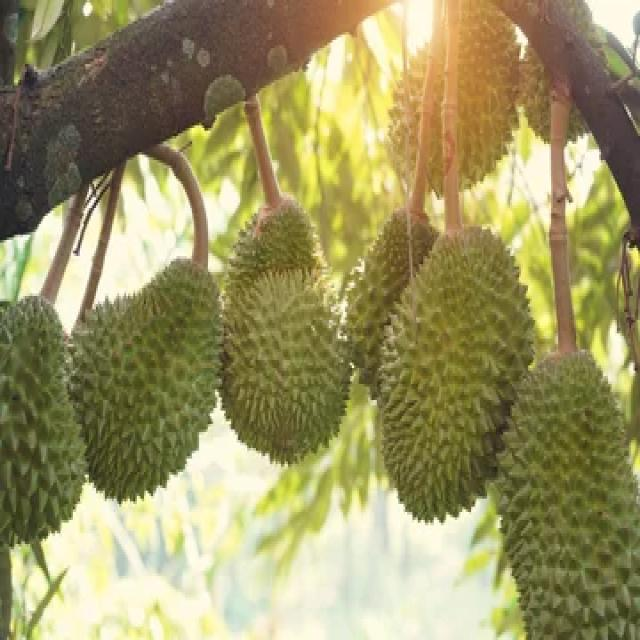immature: (375, 220, 533, 524), (494, 344, 640, 638), (66, 249, 228, 498), (220, 202, 358, 468), (0, 288, 87, 546)
